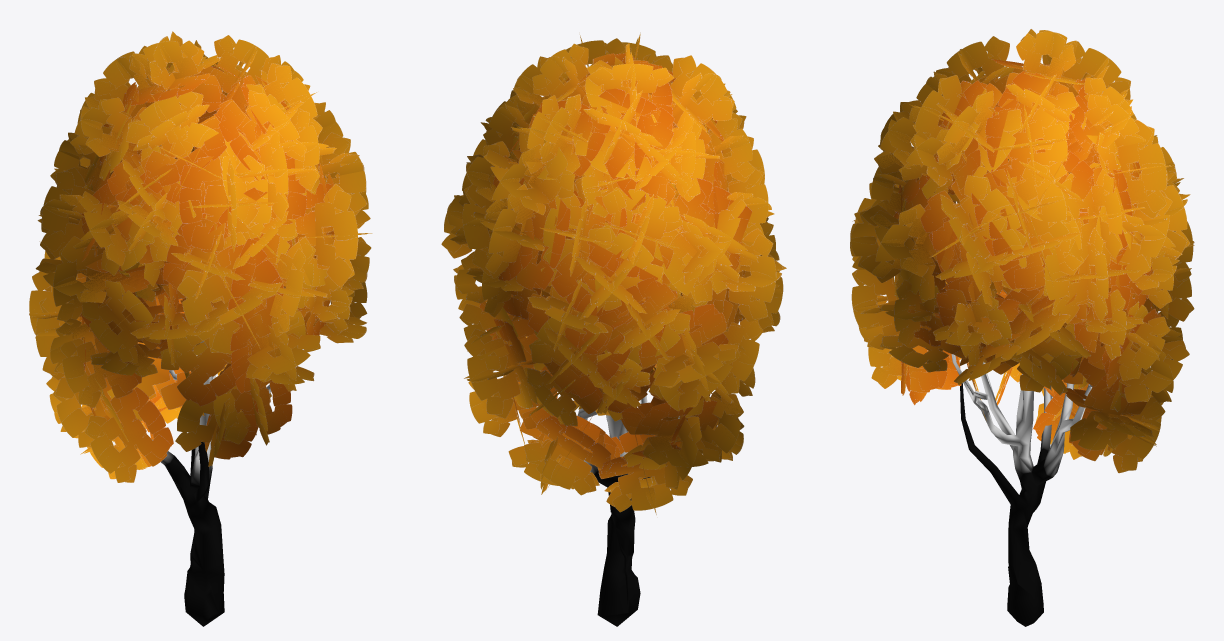
File: TSP_Tree_02C.fbx
3 views of the same model, side by side, from view 1: azimuth 30°, elevation 25°; view 2: azimuth 150°, elevation 25°; view 3: azimuth 270°, elevation 25° (orthographic).
Visible parts, largest first — view 1: TSP_Tree_02C; view 2: TSP_Tree_02C; view 3: TSP_Tree_02C.
Part boxes in pixels (<box>): TSP_Tree_02C: <box>29,31,372,626</box>; TSP_Tree_02C: <box>441,32,786,626</box>; TSP_Tree_02C: <box>850,29,1194,626</box>.
Bounding box in the file's own units: 4.43 × 7.67 × 4.33.
